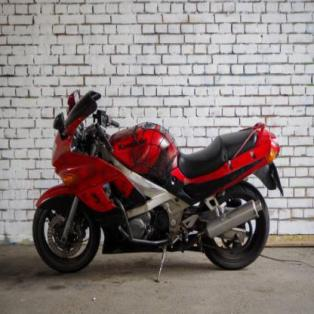Motocicleta: (26, 79, 284, 283)
